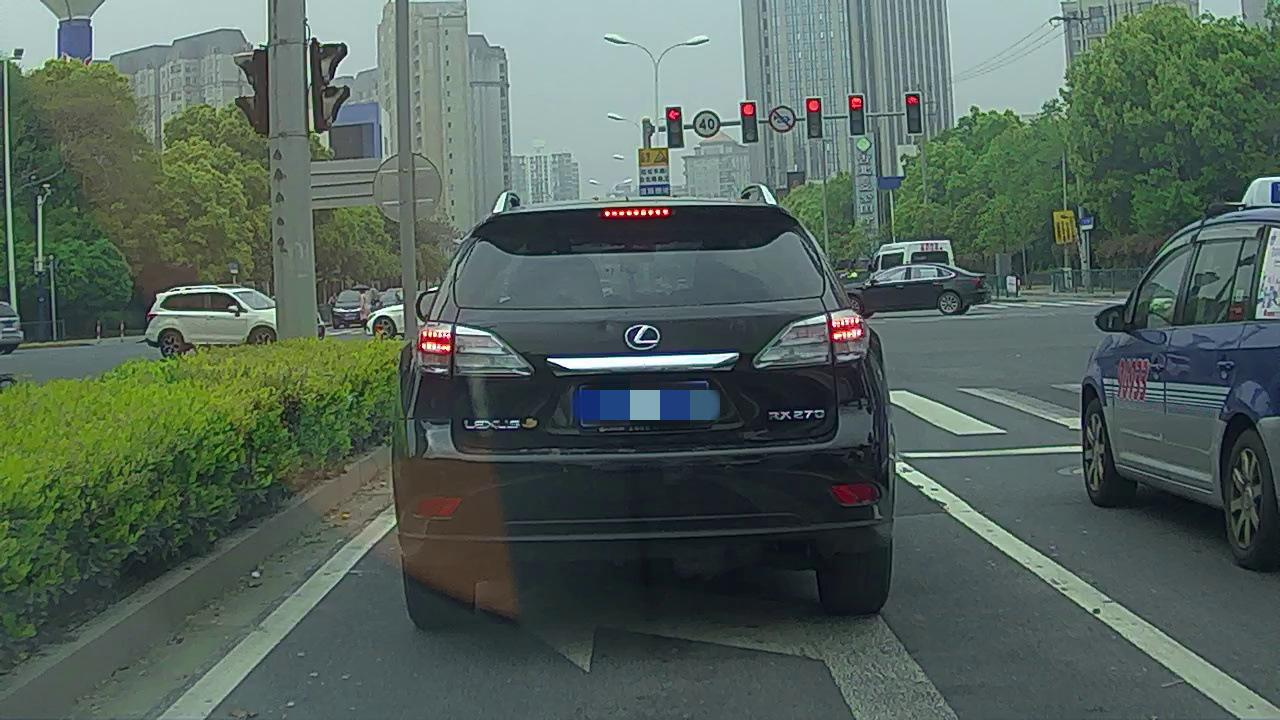traffic_light: (666, 107, 684, 146), (849, 95, 866, 136), (906, 92, 923, 133), (808, 100, 823, 140), (742, 103, 757, 141)
